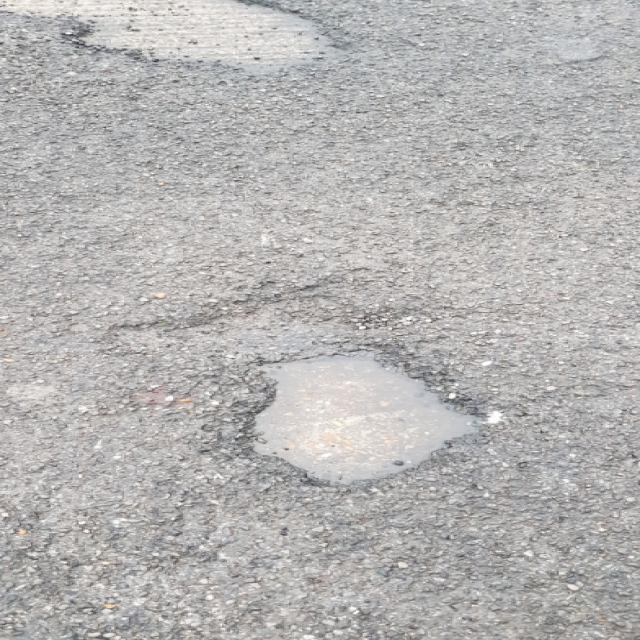pothole: (232, 334, 493, 491), (18, 0, 356, 76)
